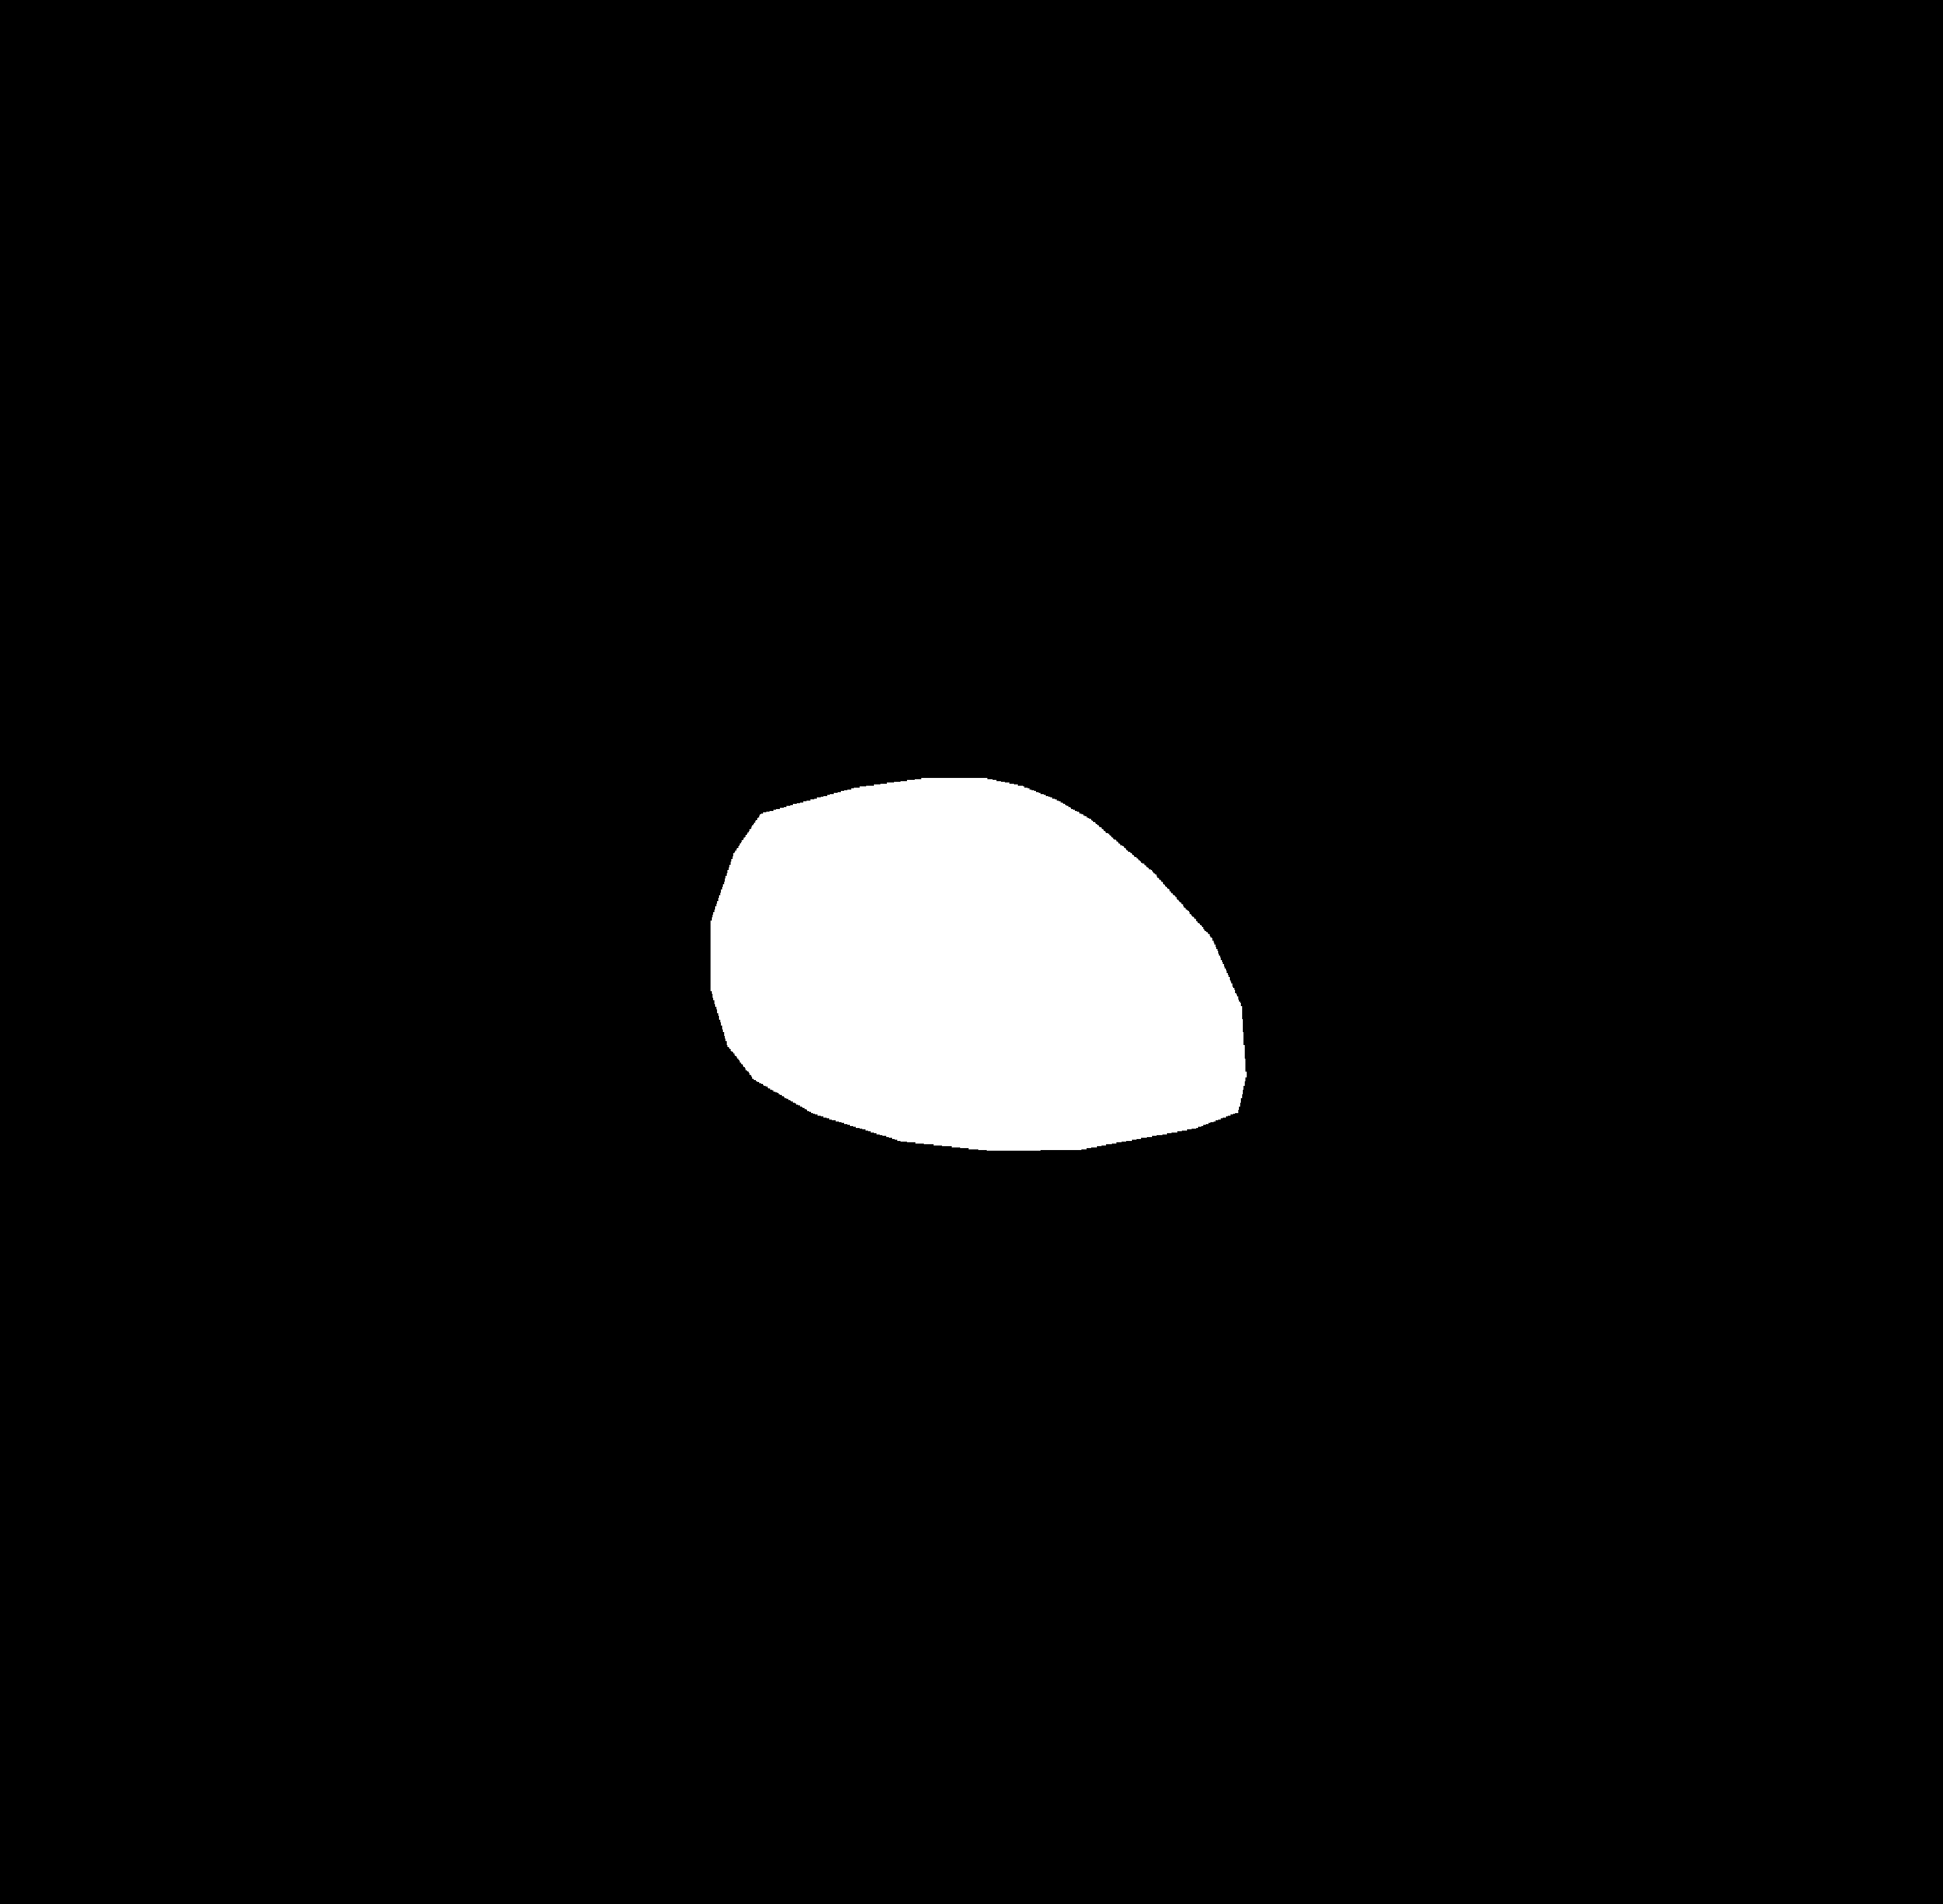heart: (678, 804, 1245, 1186)
left_lung: (324, 256, 820, 1240)
right_lung: (944, 265, 1444, 1282)
